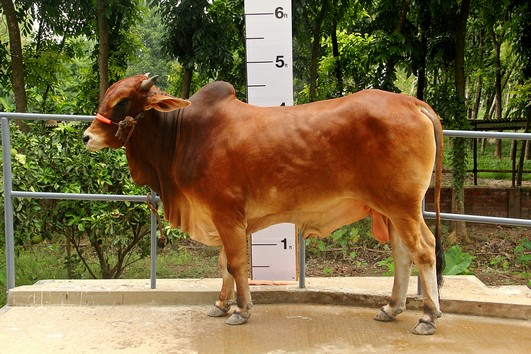cow: (73, 66, 453, 339)
